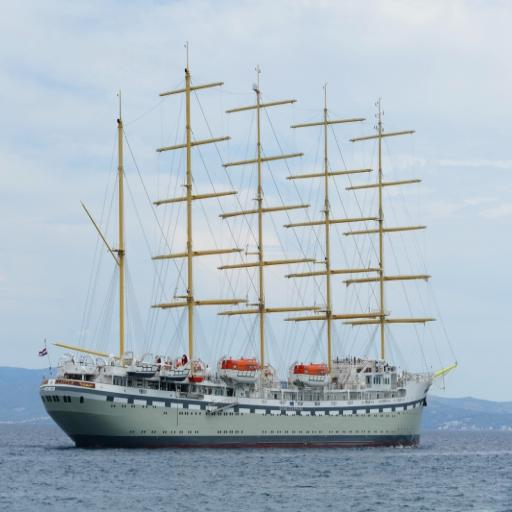cruises: (37, 326, 460, 463)
